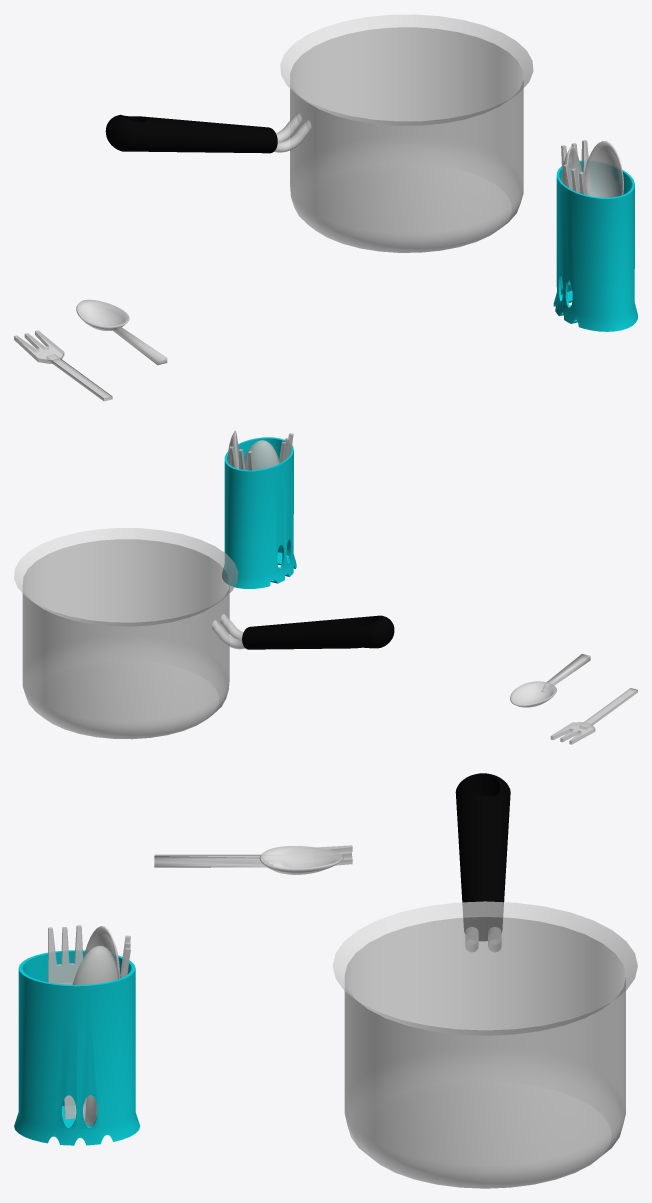
Rendered from alat dapur.glb.
3 renders of one model, top to bottom at view 1: azimuth 30°, elevation 25°; view 2: azimuth 150°, elevation 25°; view 3: azimuth 270°, elevation 25°, orthographic. The views are drawn at different scales.
Visible parts, largest first — view 1: Sphere.001, Cylinder, sendok.001, sendok, GARPUH; view 2: Sphere.001, Cylinder, sendok, GARPUH, sendok.002; view 3: Sphere.001, Cylinder, sendok, GARPUH.002, sendok.001, GARPUH, sendok.002.
Part boxes in pixels (x1,y1,x2,y2): Sphere.001: [105, 14, 533, 252]; Cylinder: [553, 160, 637, 331]; sendok.001: [584, 141, 623, 197]; sendok: [76, 299, 167, 365]; GARPUH: [14, 330, 112, 401]; Sphere.001: [14, 528, 394, 739]; Cylinder: [222, 437, 296, 588]; sendok: [510, 654, 590, 707]; GARPUH: [550, 688, 637, 744]; sendok.002: [244, 440, 279, 469]; Sphere.001: [332, 773, 637, 1188]; Cylinder: [14, 950, 140, 1145]; sendok: [154, 846, 343, 874]; GARPUH.002: [47, 925, 83, 1119]; sendok.001: [72, 946, 118, 1126]; GARPUH: [154, 845, 352, 865]; sendok.002: [83, 926, 120, 1113].
Size of the model in its own units: 5.52 by 1.69 by 4.43.
